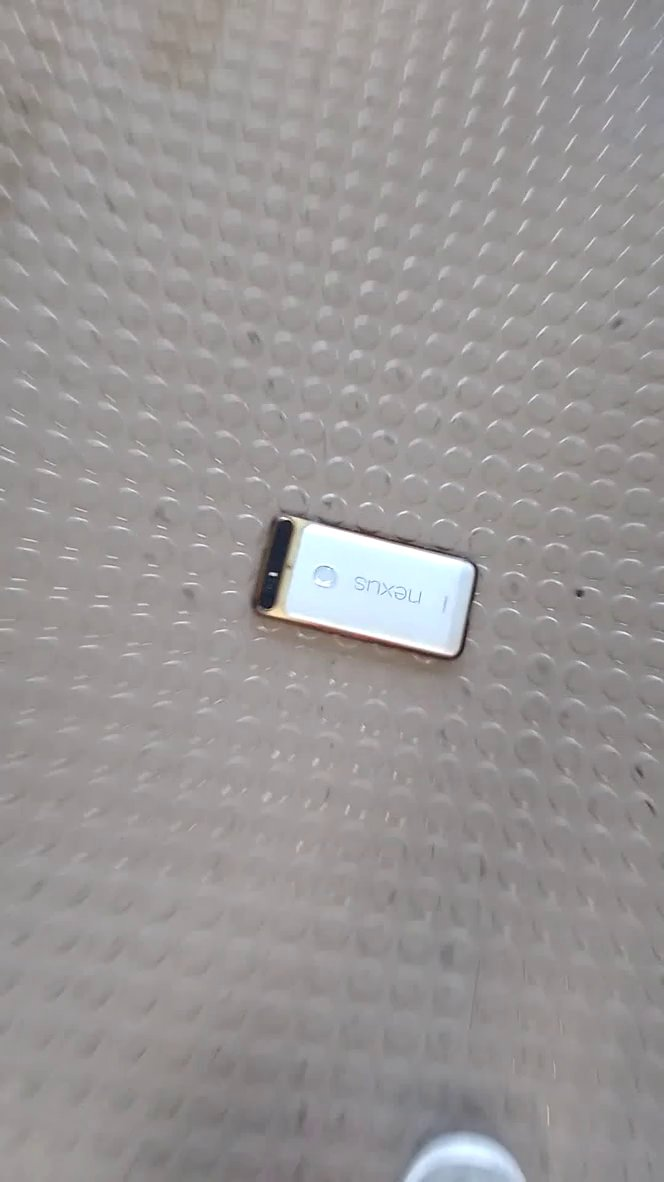phone: (246, 494, 505, 689)
